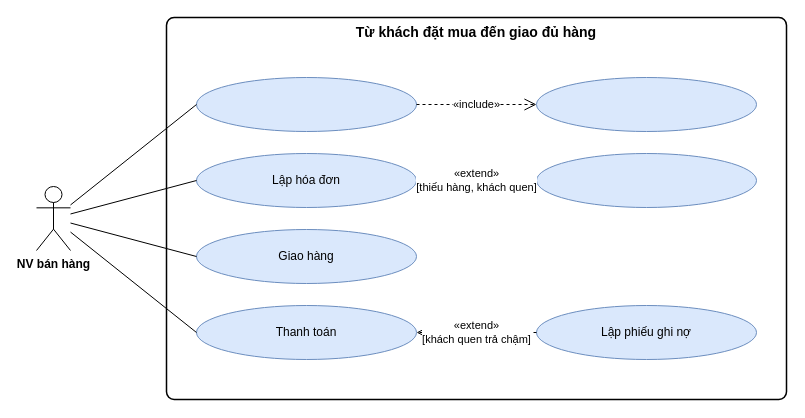
This 805x418 diagram has some shape labels left out. Each missing label, with the centre of its shape:
"Kiểm tra tồn kho" goes at (x=646, y=104).
"Lập phiếu hẹn giao" goes at (x=646, y=180).
"Tiếp nhận yêu cầu mua" goes at (x=306, y=104).
